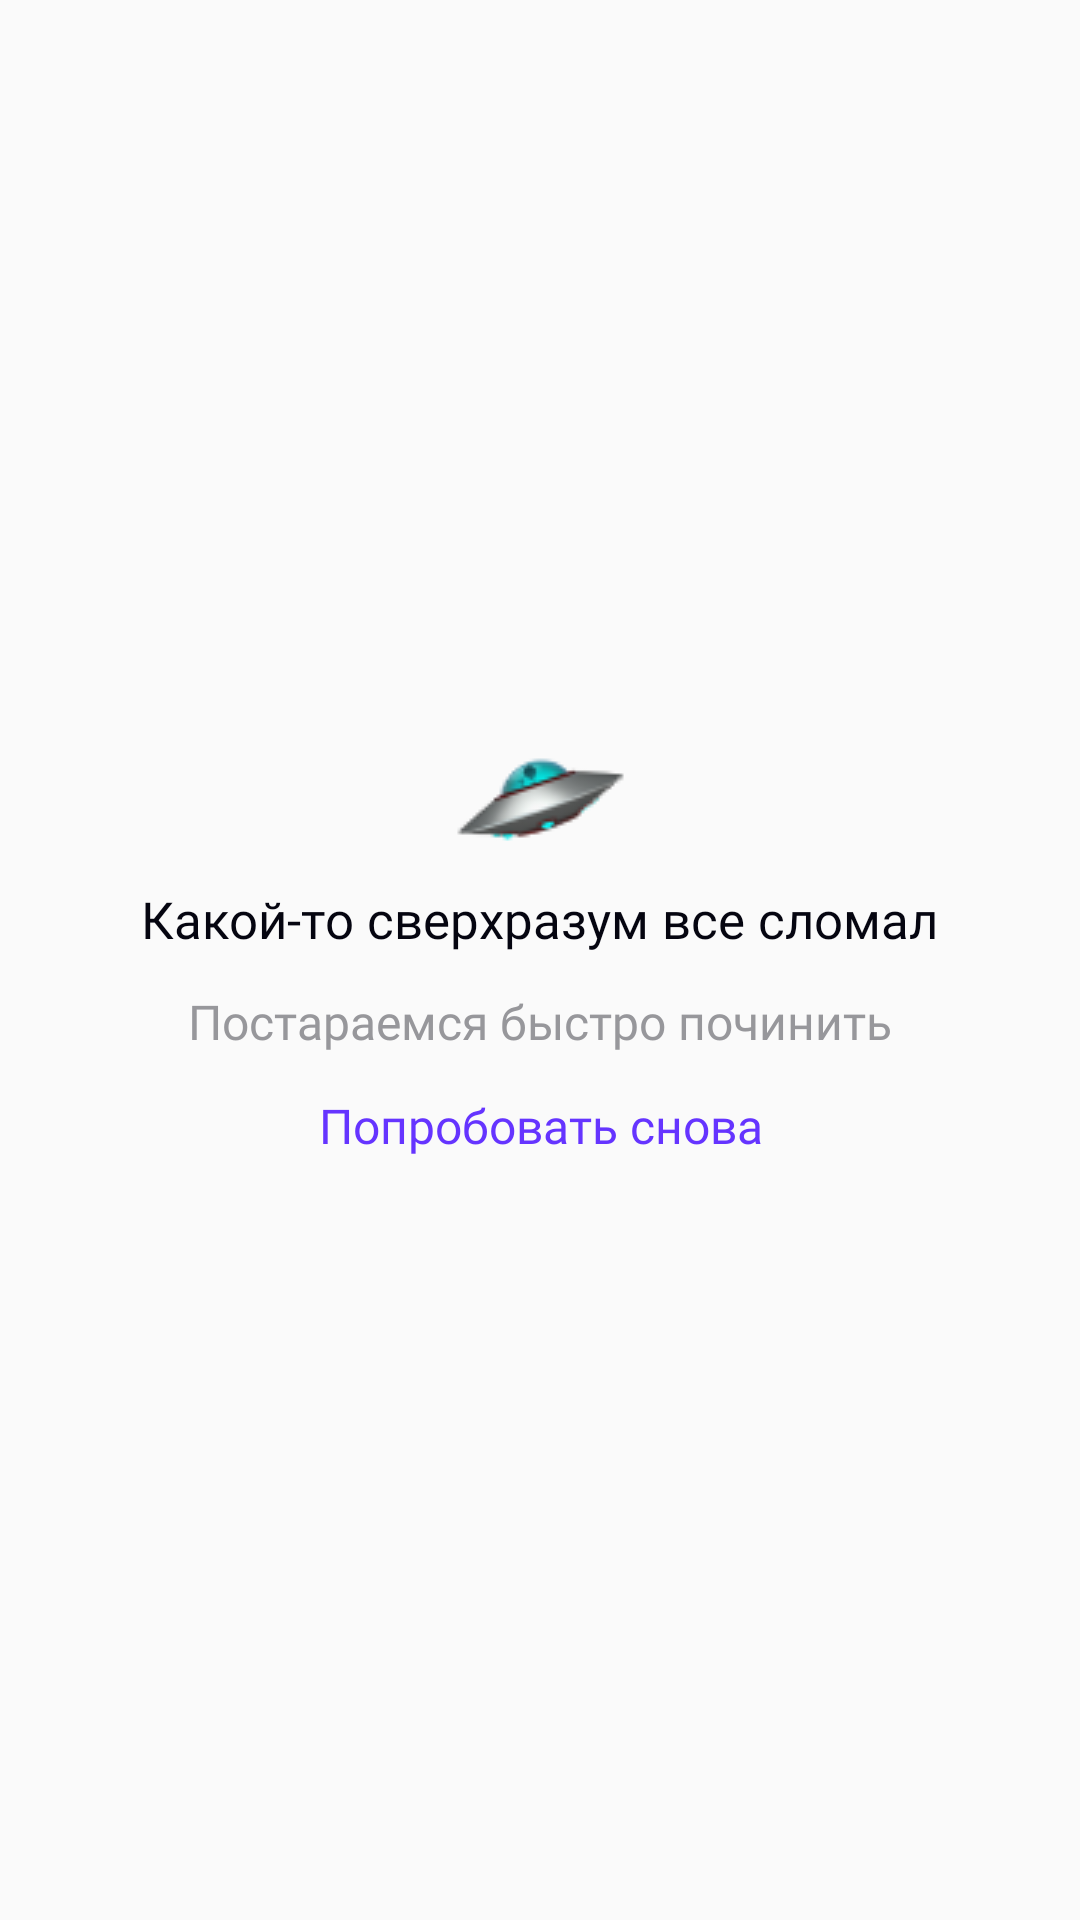

Locate icon controls on the screen. Image size 1080w x 1920h, boxes as Rect(x1, y1, x2, y2).
flyingsaucer: Rect(458, 758, 624, 841)
